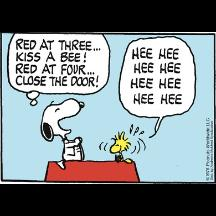snoopy: (41, 97, 85, 170)
